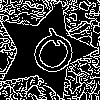Q: (20, 25, 83, 87)
